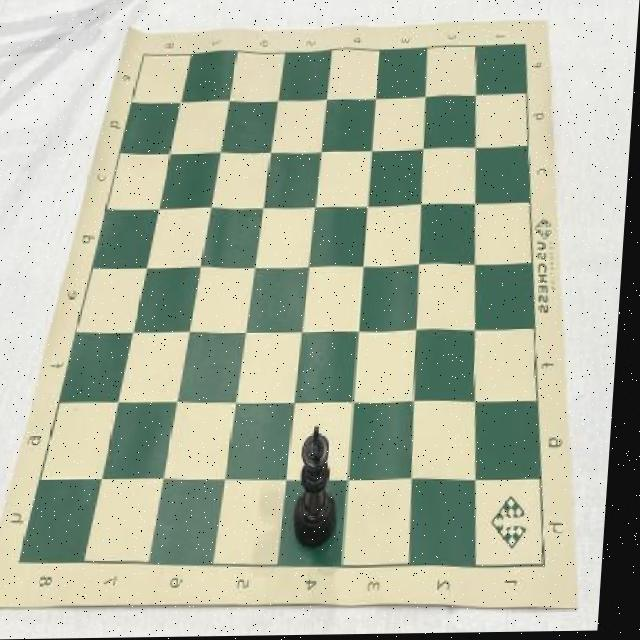black-bishop: (299, 425, 350, 551)
